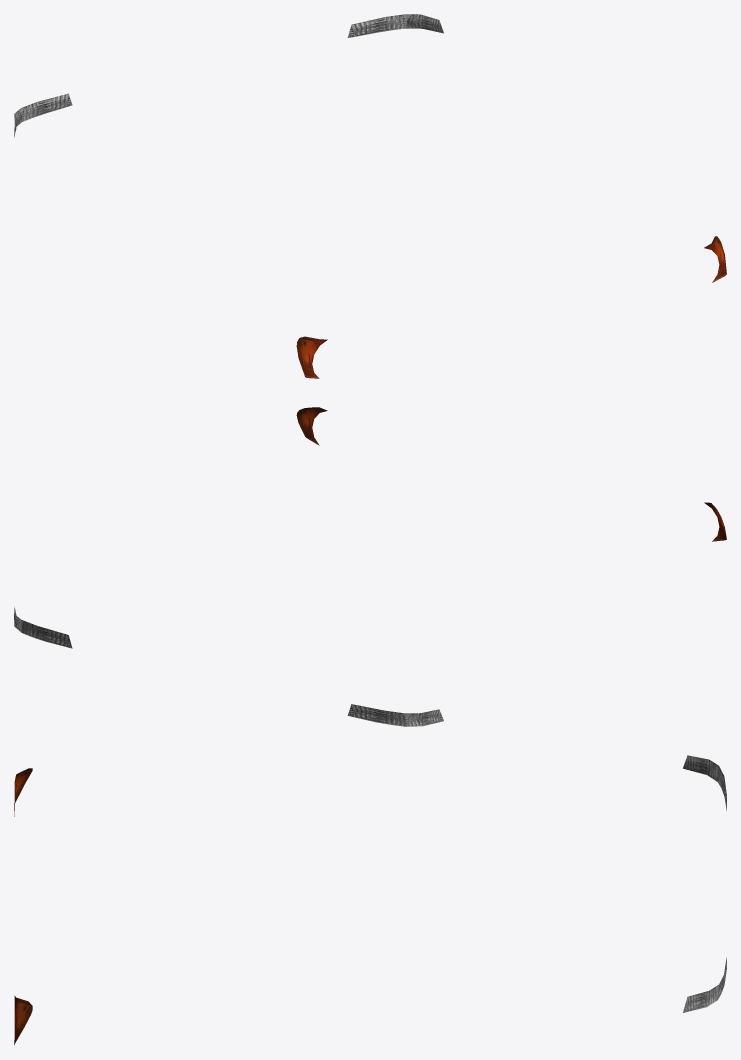
File: tozzo98_blinkers_ucb_lights_and_glass_0.003_lev3.glb
3 renders of one model, top to bottom at view 1: azimuth 30°, elevation 25°; view 2: azimuth 150°, elevation 25°; view 3: azimuth 270°, elevation 25°, orthographic. The views are drawn at different scales.
Visible parts, largest first — view 1: tozzo98_blinkers_ucb_lights_and_glass_0.003_lev3; view 2: tozzo98_blinkers_ucb_lights_and_glass_0.003_lev3; view 3: tozzo98_blinkers_ucb_lights_and_glass_0.003_lev3.
Boxes of the visible parts, left/top/right/bottom form: tozzo98_blinkers_ucb_lights_and_glass_0.003_lev3: left=14, top=14, right=726, bottom=378; tozzo98_blinkers_ucb_lights_and_glass_0.003_lev3: left=14, top=407, right=726, bottom=726; tozzo98_blinkers_ucb_lights_and_glass_0.003_lev3: left=14, top=755, right=726, bottom=1044.
Size of the model in its own units: 2.45 by 0.2642 by 3.02.
1 material, 1 textured.
